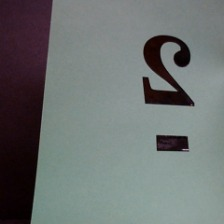green2: (132, 31, 207, 159)
